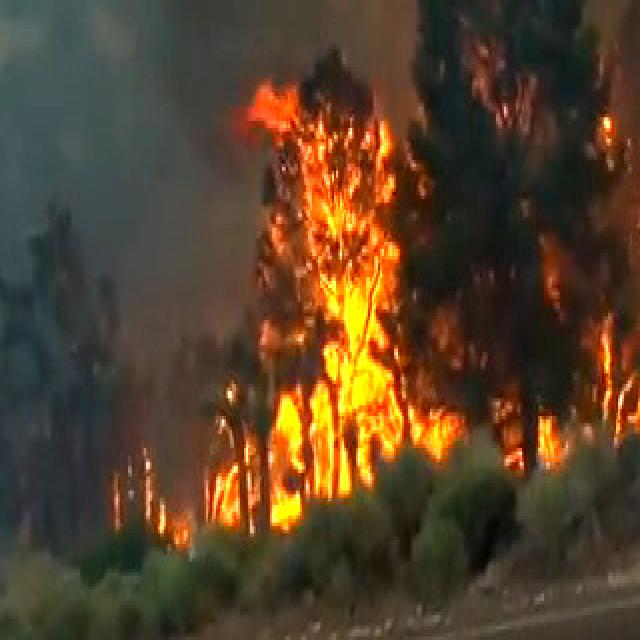fire: (251, 96, 413, 494)
